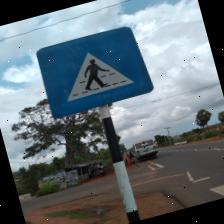blueboard: (32, 20, 156, 120)
crossing: (190, 162, 224, 205)
